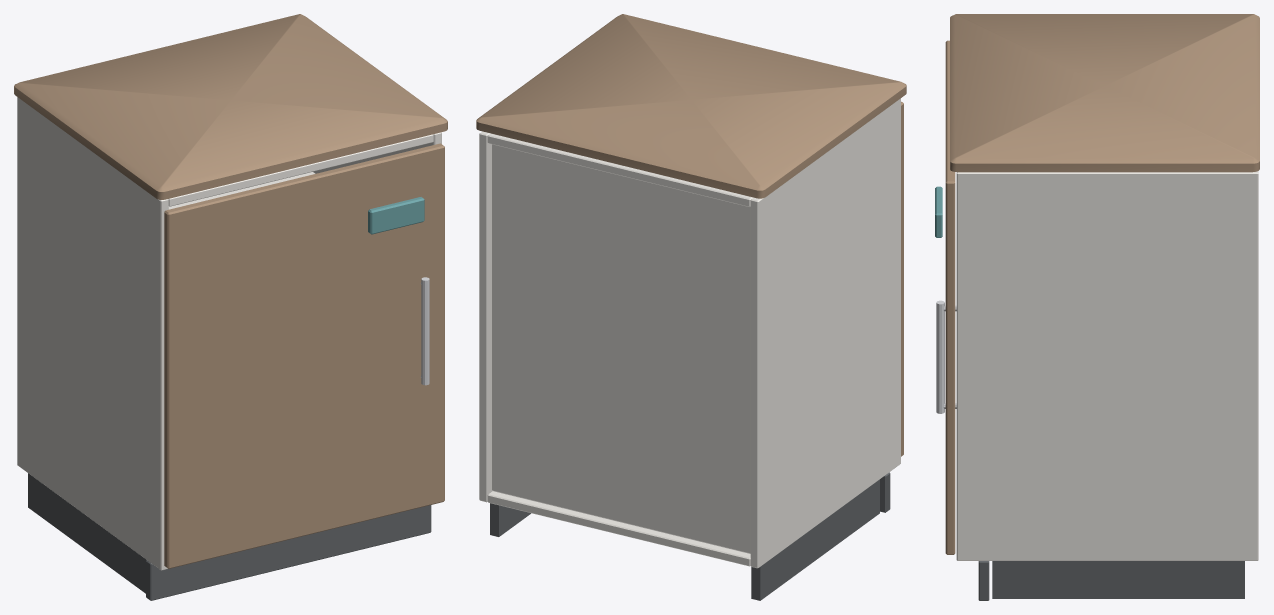
File: hotel-and-resort-operations-minibar-cabinet-601f19a1__25760.glb
3 renders of one model, left to right at view 1: azimuth 30°, elevation 25°; view 2: azimuth 150°, elevation 25°; view 3: azimuth 270°, elevation 25°, orthographic. The views are drawn at different scales.
Visible parts, largest first — view 1: minibar-cabinet, door-minibar/surface, door-minibar/metal; view 2: minibar-cabinet, door-minibar/surface; view 3: minibar-cabinet, door-minibar/surface, door-minibar/metal.
Part boxes in pixels (x1,y1,x2,y2): minibar-cabinet: (14, 14, 447, 600); door-minibar/surface: (164, 143, 444, 568); door-minibar/metal: (420, 277, 429, 385); minibar-cabinet: (476, 14, 906, 600); door-minibar/surface: (901, 101, 903, 456); minibar-cabinet: (935, 14, 1259, 600); door-minibar/surface: (945, 40, 955, 554); door-minibar/metal: (936, 300, 956, 413).
Bounding box in the file's own units: 0.64 × 0.89 × 0.591.
